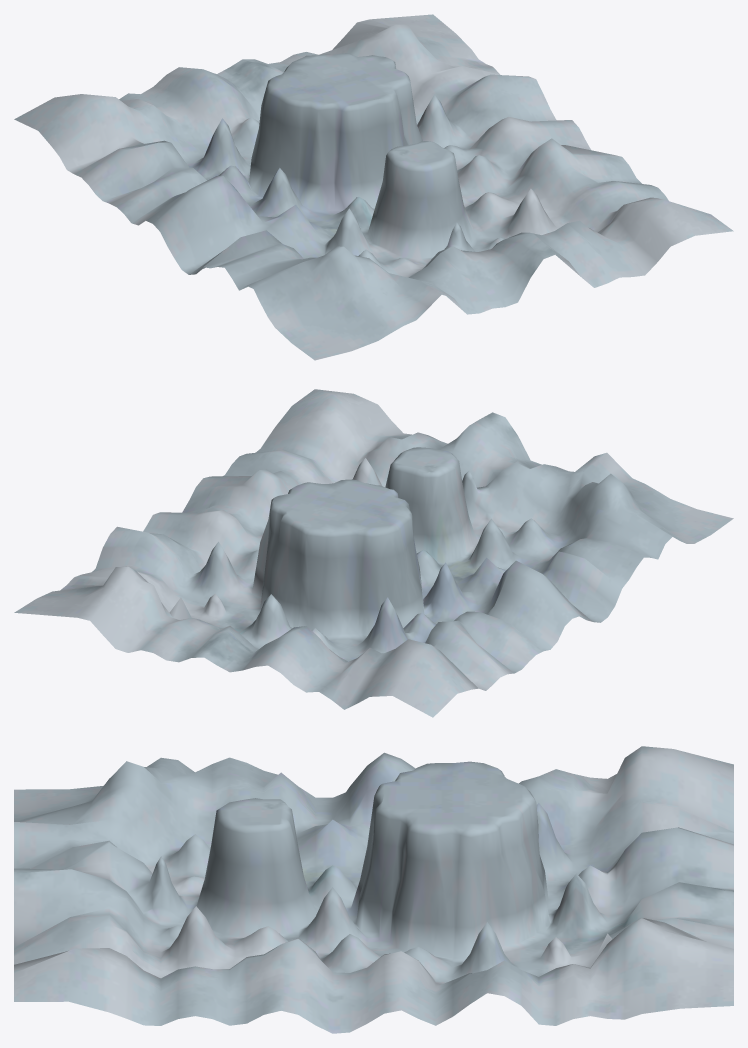
The model's file is rzjd_4_dimain.FBX.
3 renders of one model, top to bottom at view 1: azimuth 30°, elevation 25°; view 2: azimuth 150°, elevation 25°; view 3: azimuth 270°, elevation 25°, orthographic. The views are drawn at different scales.
Parts seen in each view (by area): view 1: rzjd_4_dimain; view 2: rzjd_4_dimain; view 3: rzjd_4_dimain.
Part boxes in pixels (box(x1,y1,x2,y2)): rzjd_4_dimain: box(14, 14, 733, 360); rzjd_4_dimain: box(14, 389, 733, 717); rzjd_4_dimain: box(14, 746, 733, 1033).
Bounding box in the file's own units: 9783 × 2287 × 12164.
